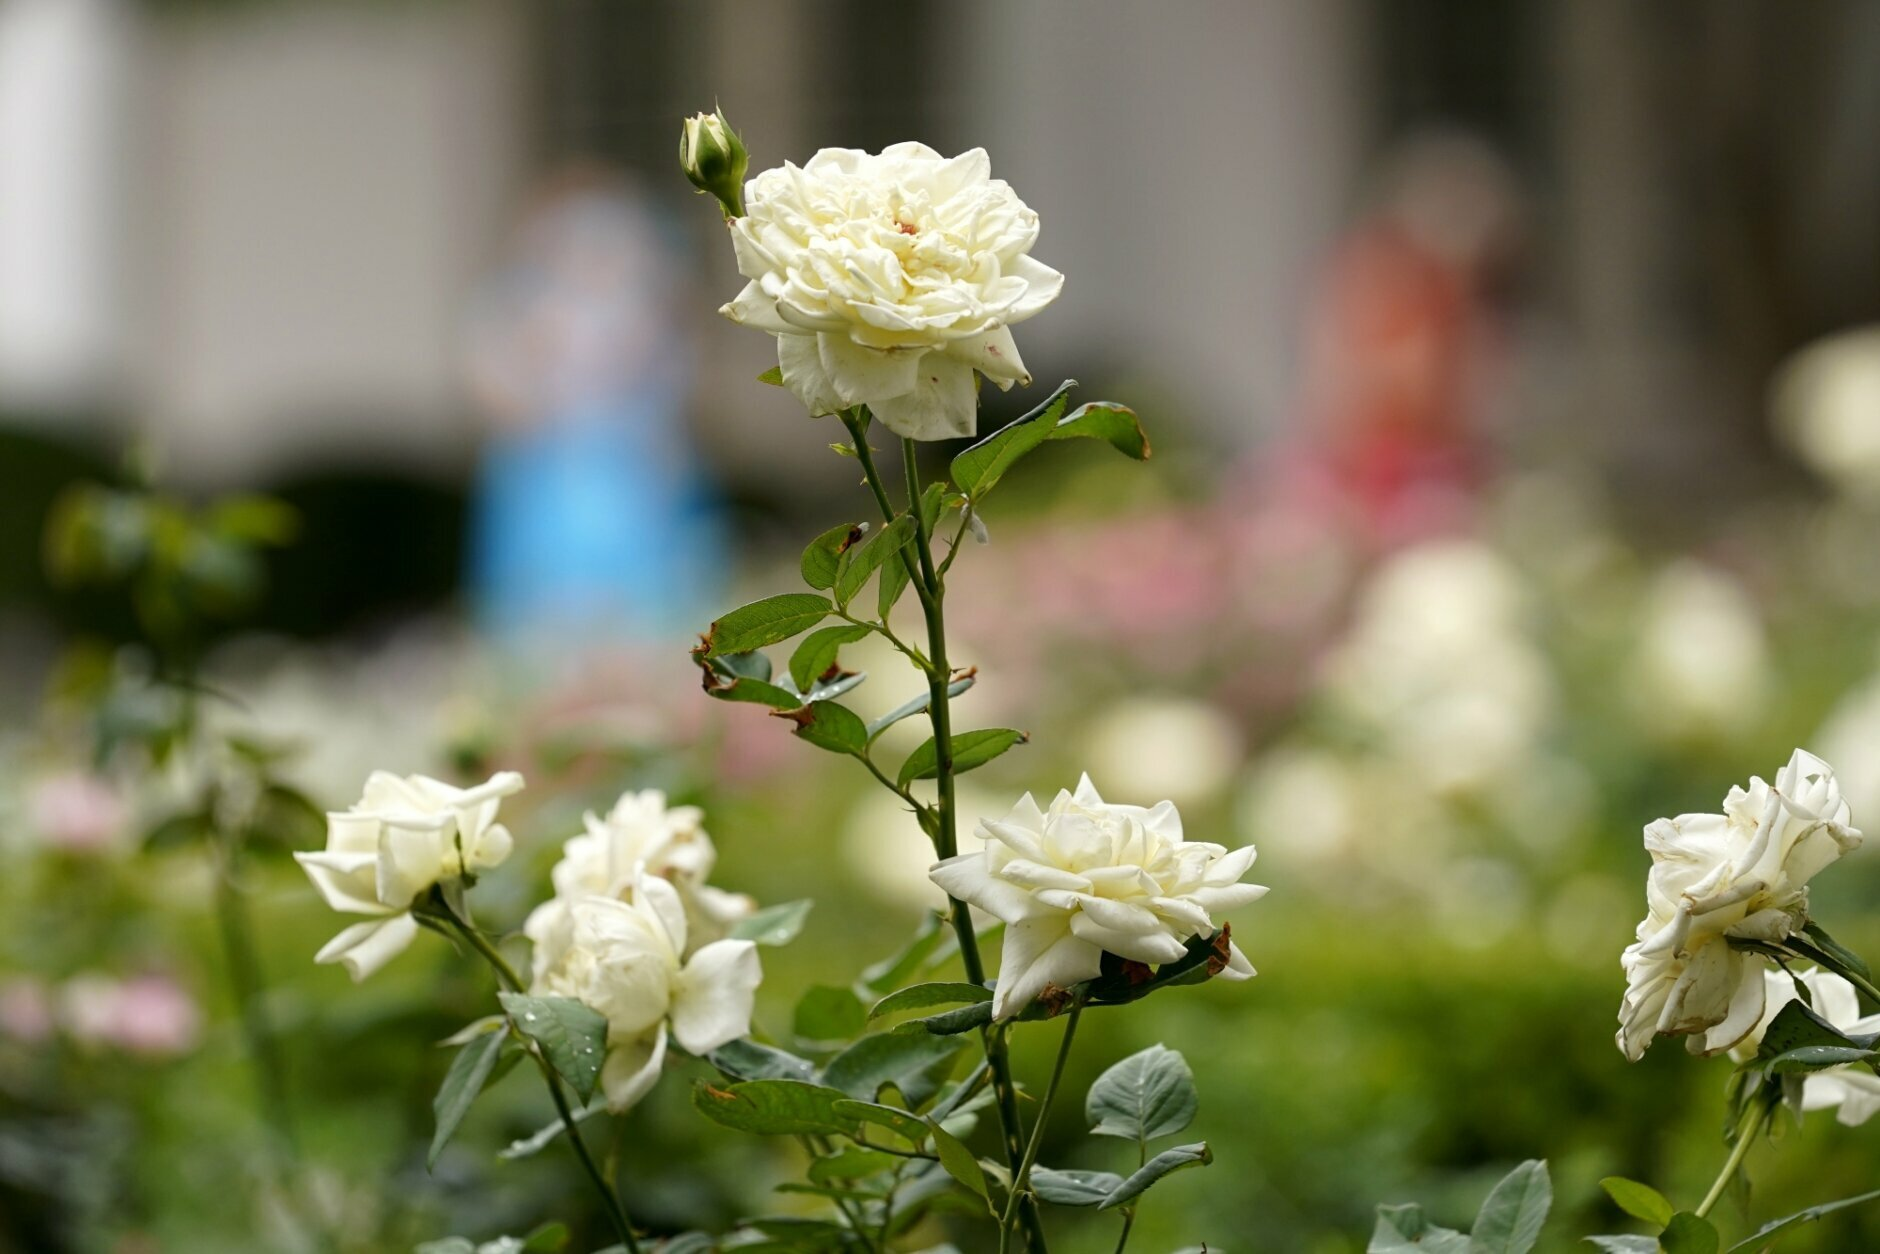Rose: (746, 141, 1046, 427), (1623, 767, 1827, 1055), (948, 794, 1248, 975), (292, 773, 505, 913)
